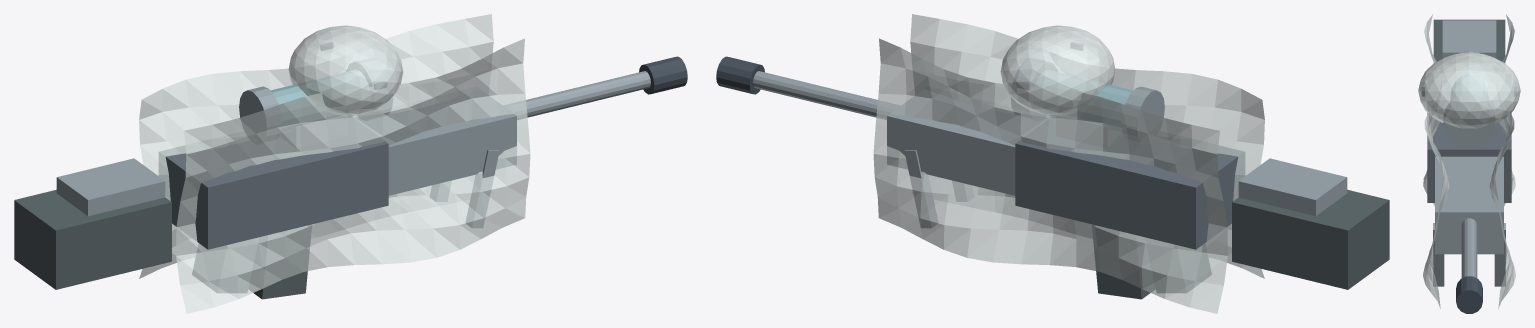
Rendered from halloween-dmr.glb.
3 renders of one model, left to right at view 1: azimuth 30°, elevation 25°; view 2: azimuth 150°, elevation 25°; view 3: azimuth 270°, elevation 25°, orthographic. The views are drawn at different scales.
Visible parts, largest first — view 1: GHOST_CLOTH_PANEL_1, GHOST_CLOTH_PANEL_-1, RECEIVER, BUTTSTOCK, HANDGUARD, GHOST_HOOD, CHEEK_REST, MAGAZINE, GRIP, LONG_BARREL, SCOPE_TUBE, SCOPE_REAR_RING (+4 smaller); view 2: GHOST_CLOTH_PANEL_-1, GHOST_CLOTH_PANEL_1, RECEIVER, BUTTSTOCK, HANDGUARD, GHOST_HOOD, CHEEK_REST, MAGAZINE, GRIP, LONG_BARREL, SCOPE_TUBE, SCOPE_REAR_RING (+4 smaller); view 3: GHOST_HOOD, HANDGUARD, RECEIVER, SCOPE_FRONT_RING, CHEEK_REST, GHOST_CLOTH_PANEL_-1, GHOST_CLOTH_PANEL_1, LONG_BARREL, BUTTSTOCK, MUZZLE_BRAKE, SCOPE_TUBE, BIPOD_LEG_L (+1 smaller).
Part boxes in pixels (x1,y1,x2,y2): GHOST_CLOTH_PANEL_1: (176, 38, 530, 313); GHOST_CLOTH_PANEL_-1: (139, 14, 493, 278); RECEIVER: (159, 117, 388, 249); BUTTSTOCK: (14, 189, 171, 289); HANDGUARD: (355, 89, 516, 195); GHOST_HOOD: (288, 25, 403, 115); CHEEK_REST: (56, 158, 165, 216); MAGAZINE: (248, 225, 311, 299); GRIP: (192, 238, 258, 292); LONG_BARREL: (504, 71, 650, 119); SCOPE_TUBE: (270, 70, 368, 132); SCOPE_REAR_RING: (239, 86, 281, 144); GHOST_CLOTH_PANEL_-1: (873, 38, 1227, 313); GHOST_CLOTH_PANEL_1: (910, 14, 1264, 278); RECEIVER: (1015, 117, 1244, 249); BUTTSTOCK: (1232, 189, 1389, 289); HANDGUARD: (887, 89, 1048, 195); GHOST_HOOD: (1000, 25, 1115, 115); CHEEK_REST: (1238, 158, 1347, 216); MAGAZINE: (1092, 225, 1155, 299); GRIP: (1145, 238, 1211, 292); LONG_BARREL: (753, 71, 899, 119); SCOPE_TUBE: (1035, 70, 1133, 132); SCOPE_REAR_RING: (1122, 86, 1164, 144); GHOST_HOOD: (1418, 52, 1520, 128); HANDGUARD: (1435, 156, 1503, 254); RECEIVER: (1427, 113, 1511, 202); SCOPE_FRONT_RING: (1443, 94, 1495, 148); CHEEK_REST: (1442, 20, 1496, 58); GHOST_CLOTH_PANEL_-1: (1489, 14, 1515, 308); GHOST_CLOTH_PANEL_1: (1423, 14, 1449, 308); LONG_BARREL: (1461, 218, 1477, 277); BUTTSTOCK: (1433, 19, 1505, 61); MUZZLE_BRAKE: (1456, 276, 1482, 313); SCOPE_TUBE: (1450, 74, 1488, 100); BIPOD_LEG_L: (1494, 223, 1505, 286).
Bounding box in the file's own units: 2.5 × 0.8777 × 0.4.
